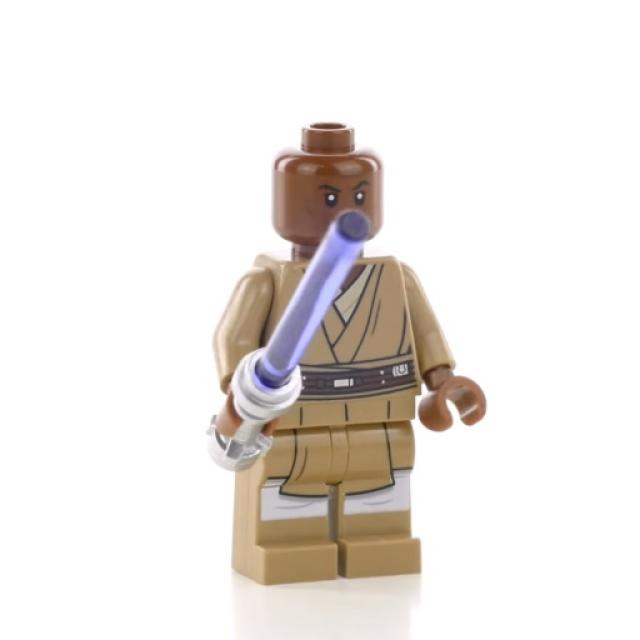Lego-Minifigures: (172, 96, 512, 622)
